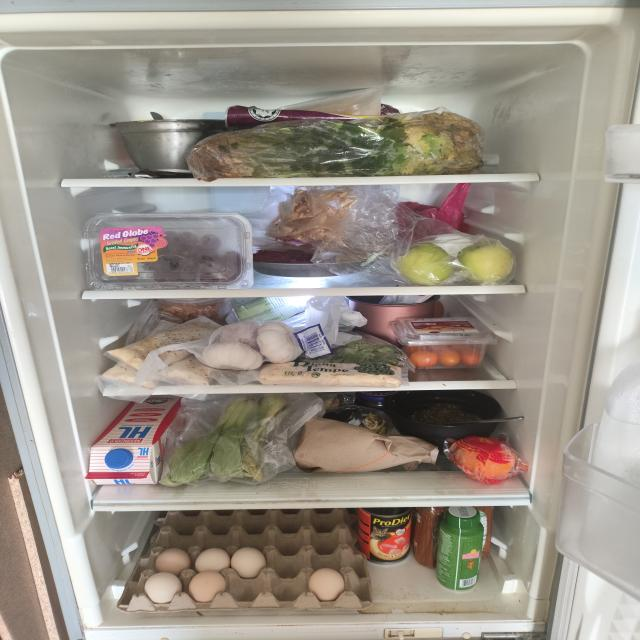apple: (458, 240, 518, 285), (398, 242, 452, 286)
egg: (117, 509, 374, 614)
garlic: (202, 320, 304, 371)
grape: (84, 210, 254, 291)
leafy_greens: (187, 112, 485, 183), (301, 337, 405, 368)
orange: (454, 440, 516, 481)
pakchoy: (160, 396, 288, 487)
tempeh: (102, 316, 223, 390), (257, 362, 402, 388)
